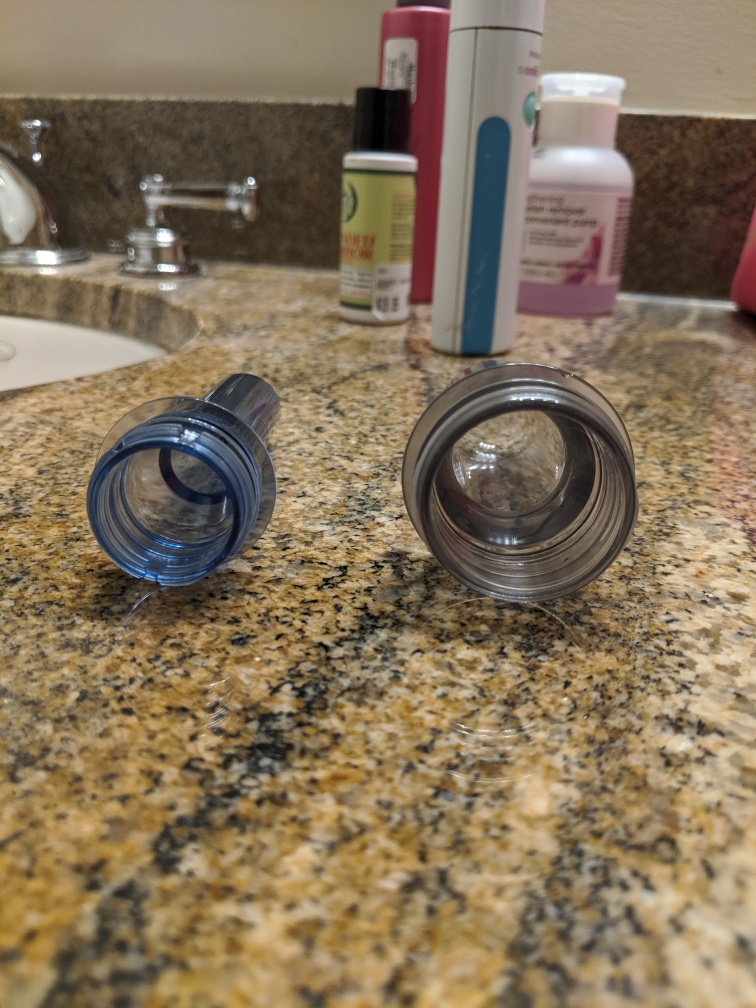preform: (391, 355, 650, 617), (73, 364, 292, 599)
